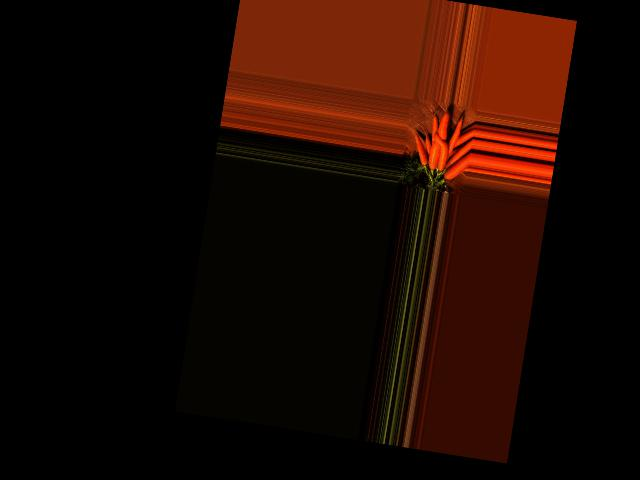carrot: (442, 150, 470, 184)
